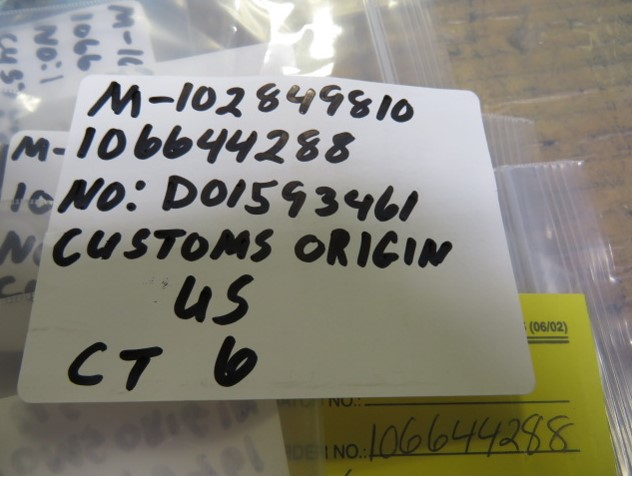character: (212, 333, 262, 388), (65, 336, 112, 392), (87, 78, 145, 123), (218, 271, 260, 330), (116, 344, 166, 393), (173, 271, 214, 325), (58, 177, 105, 215), (209, 225, 251, 264), (160, 171, 198, 214), (49, 227, 86, 269), (280, 176, 310, 226), (87, 226, 124, 266), (162, 120, 193, 165), (151, 222, 184, 264), (254, 127, 289, 166), (342, 187, 375, 228), (247, 176, 280, 216), (250, 227, 280, 270), (371, 226, 400, 270), (420, 233, 453, 271), (96, 122, 127, 162), (227, 126, 258, 165), (133, 121, 163, 161), (294, 229, 327, 265), (196, 125, 228, 162), (375, 182, 402, 224), (123, 226, 153, 263), (218, 82, 247, 120), (345, 85, 374, 122), (199, 173, 227, 211), (285, 81, 316, 115), (398, 189, 427, 225), (327, 229, 353, 269), (100, 173, 124, 216), (312, 182, 338, 221), (254, 80, 282, 116), (295, 126, 322, 163), (319, 77, 342, 120), (182, 230, 211, 264), (73, 122, 97, 162), (326, 127, 353, 162), (192, 78, 217, 115), (353, 228, 373, 271), (390, 95, 416, 127), (174, 78, 195, 115), (227, 173, 247, 211), (373, 89, 392, 127), (402, 230, 418, 268)
